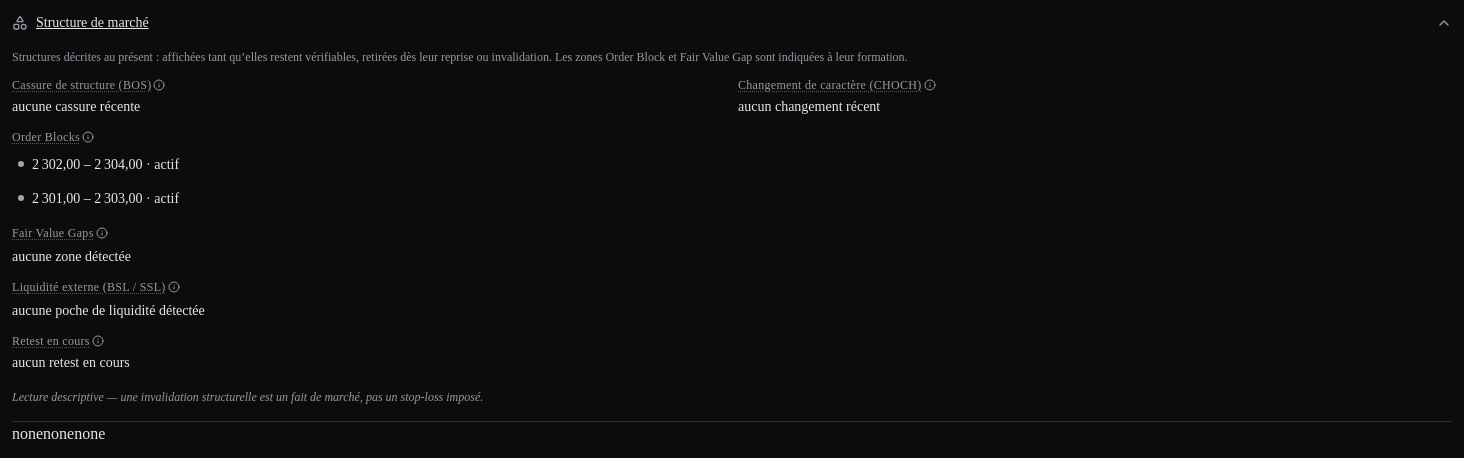
Test: zone list → click to chart › selecting another zone moves the selection (only one entry stays selected)
Click the button "2 302,00 – 2 304,00 · actif" at (106, 164), box [12, 151, 1452, 179]
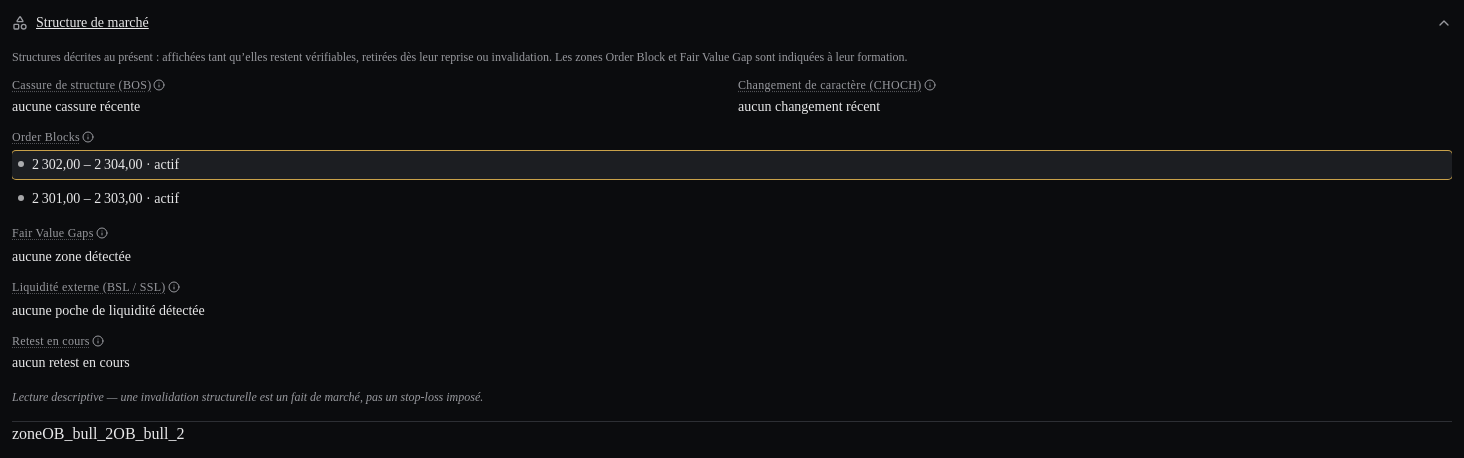
Click the button "2 301,00 – 2 303,00 · actif" at (106, 198), box [12, 185, 1452, 213]
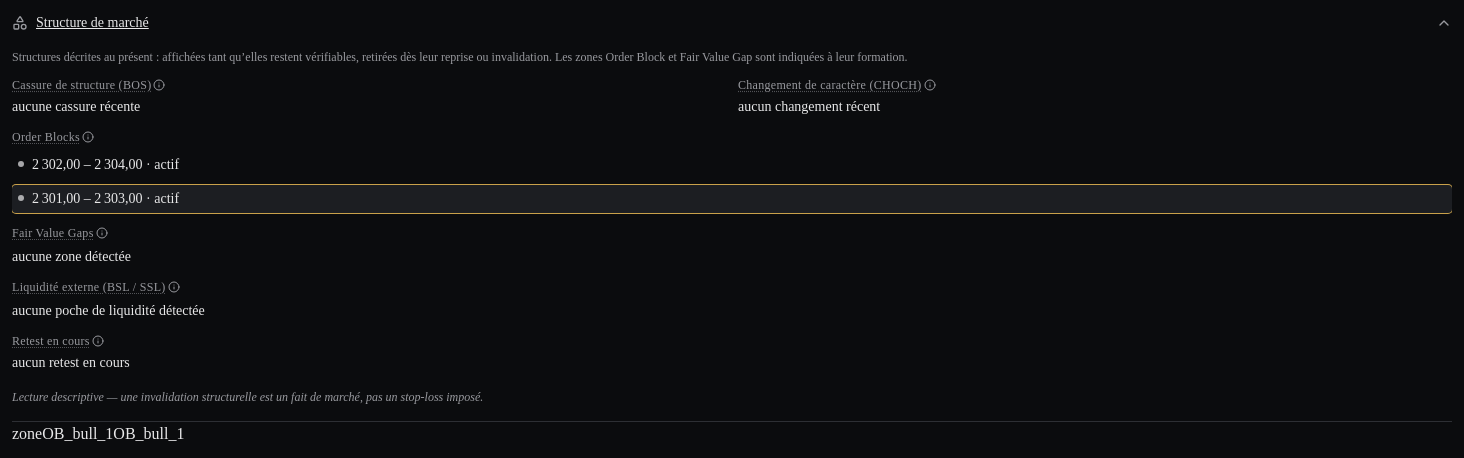
Result: the text with test id "highlight" no longer shows "OB_bull_2"
